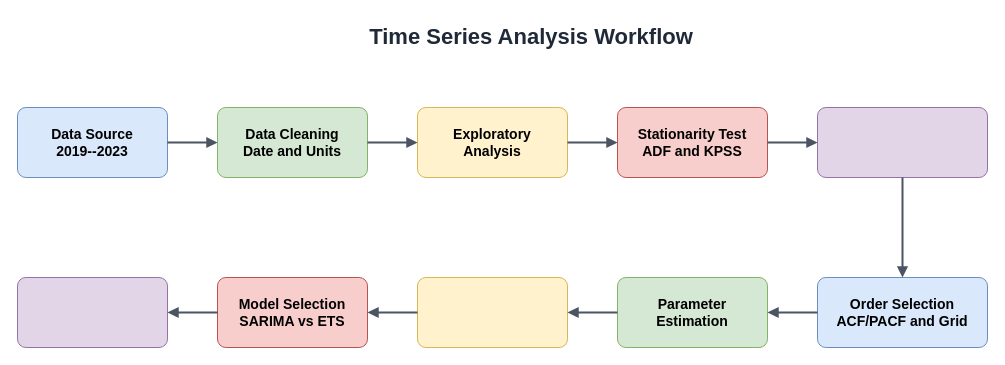
Image size: 1005x365. Some labels were removed from this diagram. Here are the shapes that lost their labels. From the top down, the centre of each, then its label:
[902,142]: Transformation Log and Difference
[92,312]: Forecast and Conclusion
[492,312]: Diagnostics Residual Tests
